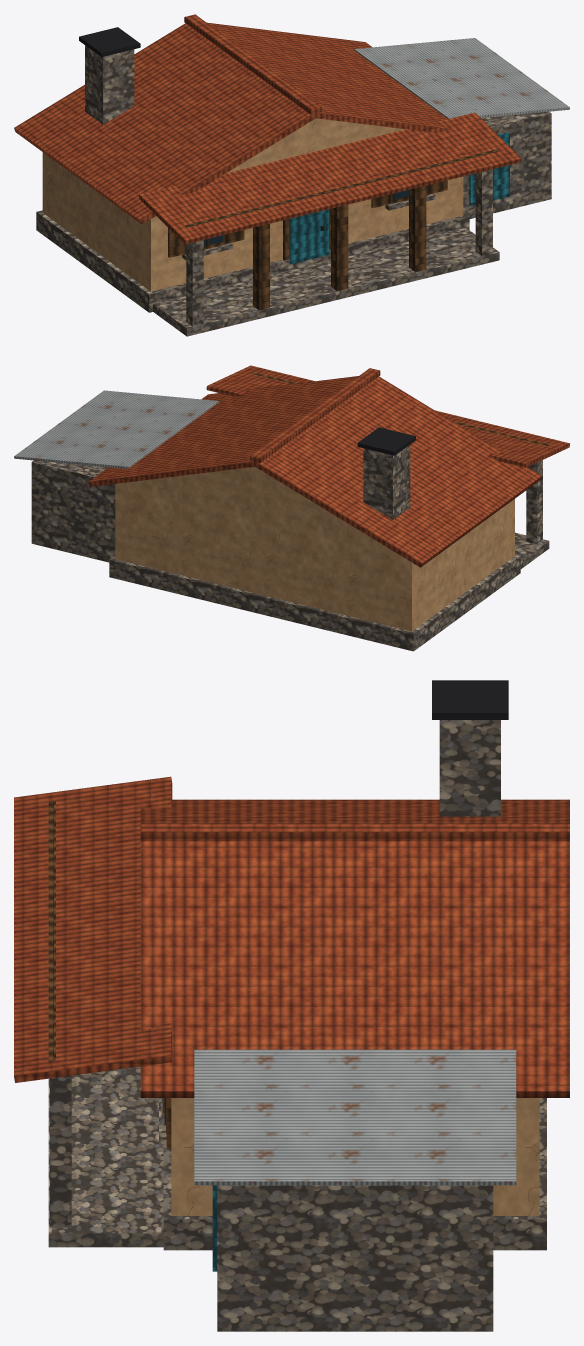
Rendered from CasaRustica3.obj.
3 renders of one model, top to bottom at view 1: azimuth 30°, elevation 25°; view 2: azimuth 150°, elevation 25°; view 3: azimuth 270°, elevation 25°, orthographic. The views are drawn at different scales.
Parts seen in each view (by area): view 1: CasaRustica3; view 2: CasaRustica3; view 3: CasaRustica3.
Part boxes in pixels (x1,y1,x2,y2): CasaRustica3: (14,14,569,336); CasaRustica3: (14,365,569,651); CasaRustica3: (14,680,569,1331).
Size of the model in its own units: 11.4 by 4.75 by 7.25.
Materials: 8 (6 with a texture image).
